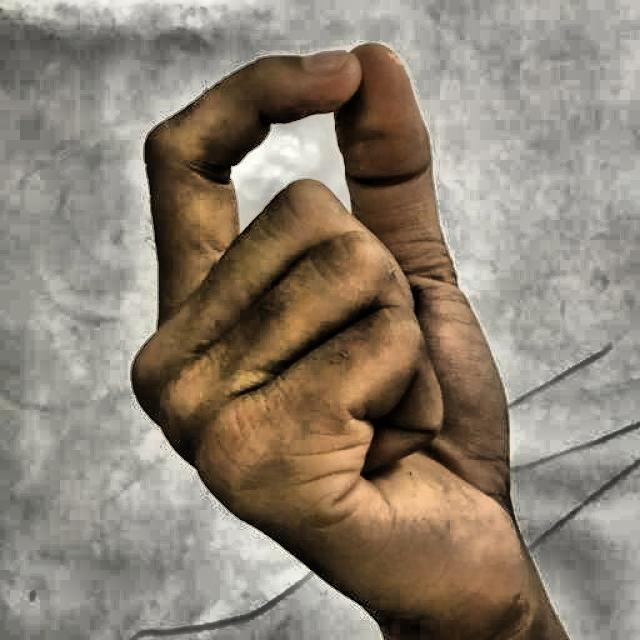Gha: (85, 31, 573, 638)
